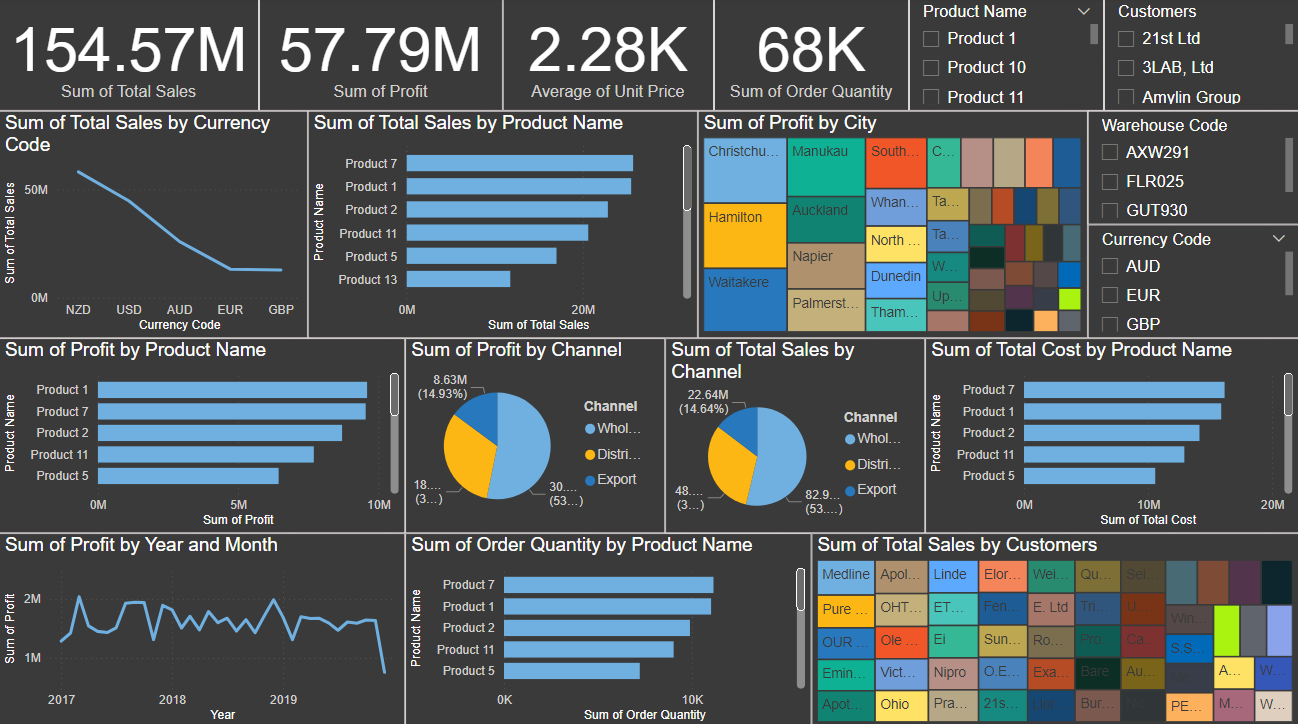

Layout of this report page (visuals, bound fields, positions):
{"tool":"powerbi","page":{"name":"Page 1","canvas":[1280,720],"ordinal":0},"visuals":[{"type":"card","fields":{"Values":["Sum(Sheet1.Total Sales)"]},"box":[0,0,256,112],"z":0},{"type":"card","fields":{"Values":["Sum(Sheet1.Profit)"]},"box":[256,0,240,112],"z":1},{"type":"card","fields":{"Values":["Avg(Sheet1.Unit Price)"]},"box":[496,0,208,112],"z":2},{"type":"card","fields":{"Values":["Sum(Sheet1.Order Quantity)"]},"box":[704,0,192,112],"z":3},{"type":"lineChart","fields":{"Category":["Sheet1.OrderDate.Variation.Date Hierarchy.Year","Sheet1.OrderDate.Variation.Date Hierarchy.Month"],"Y":["Sum(Sheet1.Profit)"]},"box":[0,528,400,192],"z":4},{"type":"treemap","fields":{"Group":["Sheet1.Customers"],"Values":["Sum(Sheet1.Total Sales)"]},"box":[800,528,480,192],"z":5},{"type":"pieChart","fields":{"Y":["Sum(Sheet1.Total Sales)"],"Category":["Sheet1.Channel"]},"box":[656,336,256,192],"z":6},{"type":"lineChart","fields":{"Y":["Sum(Sheet1.Total Sales)"],"Category":["Sheet1.Currency Code"]},"box":[0,112,304,224],"z":7},{"type":"clusteredBarChart","fields":{"Category":["Sheet1.Product Name"],"Y":["Sum(Sheet1.Order Quantity)"]},"box":[400,528,400,192],"z":8},{"type":"clusteredBarChart","fields":{"Category":["Sheet1.Product Name"],"Y":["Sum(Sheet1.Total Cost)"]},"box":[912,336,368,192],"z":9},{"type":"clusteredBarChart","fields":{"Y":["Sum(Sheet1.Total Sales)"],"Category":["Sheet1.Product Name"]},"box":[304,112,384,224],"z":10},{"type":"clusteredBarChart","fields":{"Y":["Sum(Sheet1.Profit)"],"Category":["Sheet1.Product Name"]},"box":[0,336,400,192],"z":11},{"type":"slicer","fields":{"Values":["Sheet1.Warehouse Code"]},"box":[1072,112,208,112],"z":12},{"type":"slicer","fields":{"Values":["Sheet1.Product Name"]},"box":[896,0,192,112],"z":13},{"type":"slicer","fields":{"Values":["Sheet1.Customers"]},"box":[1088,0,192,112],"z":14},{"type":"treemap","fields":{"Group":["Sheet1.City"],"Values":["Sum(Sheet1.Profit)"]},"box":[688,112,384,224],"z":15},{"type":"pieChart","fields":{"Category":["Sheet1.Channel"],"Y":["Sum(Sheet1.Profit)"]},"box":[400,336,256,192],"z":16},{"type":"slicer","fields":{"Values":["Sheet1.Currency Code"]},"box":[1072,224,208,112],"z":17}]}

Visuals, with their boxes in screenshot pixels (x1, y1, x2, y2), scaled from the page's 1280x720 canvas onto the 1298x724 screenshot:
card - Sum(Sheet1.Total Sales): crop(0, 0, 260, 113)
card - Sum(Sheet1.Profit): crop(260, 0, 503, 113)
card - Avg(Sheet1.Unit Price): crop(503, 0, 714, 113)
card - Sum(Sheet1.Order Quantity): crop(714, 0, 909, 113)
lineChart - Sheet1.OrderDate.Variation.Date Hierarchy.Year x Sheet1.OrderDate.Variation.Date Hierarchy.Month: crop(0, 531, 406, 723)
treemap - Sheet1.Customers x Sum(Sheet1.Total Sales): crop(811, 531, 1297, 723)
pieChart - Sum(Sheet1.Total Sales) x Sheet1.Channel: crop(665, 338, 925, 531)
lineChart - Sum(Sheet1.Total Sales) x Sheet1.Currency Code: crop(0, 113, 308, 338)
clusteredBarChart - Sheet1.Product Name x Sum(Sheet1.Order Quantity): crop(406, 531, 811, 723)
clusteredBarChart - Sheet1.Product Name x Sum(Sheet1.Total Cost): crop(925, 338, 1297, 531)
clusteredBarChart - Sum(Sheet1.Total Sales) x Sheet1.Product Name: crop(308, 113, 698, 338)
clusteredBarChart - Sum(Sheet1.Profit) x Sheet1.Product Name: crop(0, 338, 406, 531)
slicer - Sheet1.Warehouse Code: crop(1087, 113, 1297, 225)
slicer - Sheet1.Product Name: crop(909, 0, 1103, 113)
slicer - Sheet1.Customers: crop(1103, 0, 1297, 113)
treemap - Sheet1.City x Sum(Sheet1.Profit): crop(698, 113, 1087, 338)
pieChart - Sheet1.Channel x Sum(Sheet1.Profit): crop(406, 338, 665, 531)
slicer - Sheet1.Currency Code: crop(1087, 225, 1297, 338)
